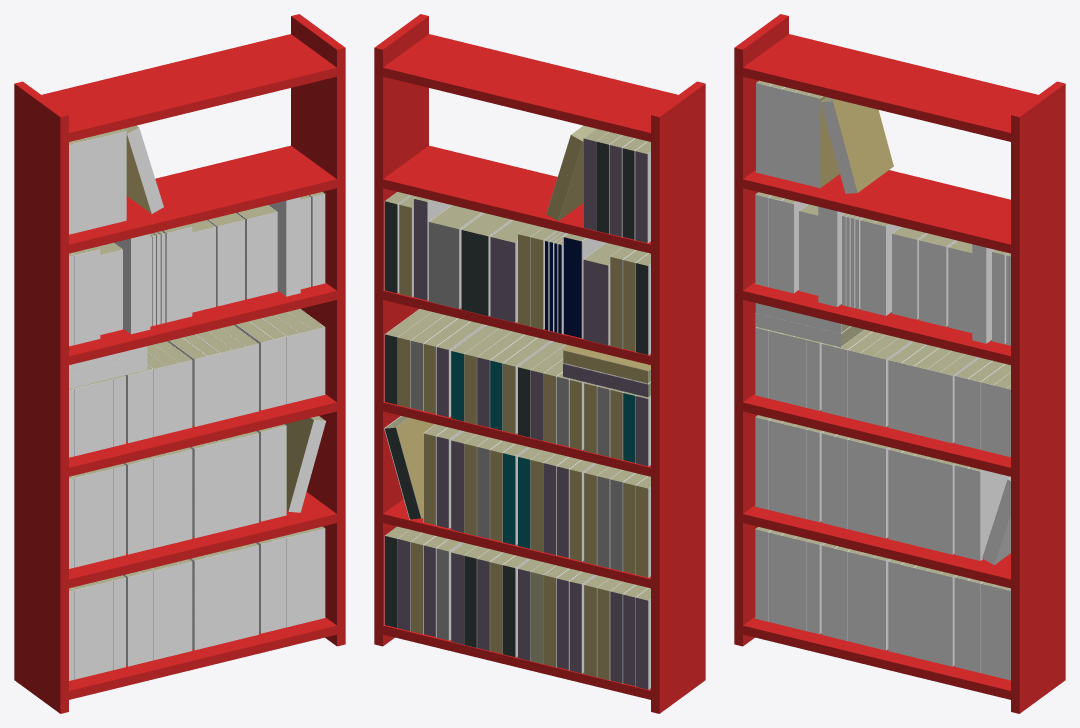
File: kitaplık.fbx
The picture shows the model from 3 angles, left to right: view 1: azimuth 30°, elevation 25°; view 2: azimuth 150°, elevation 25°; view 3: azimuth 330°, elevation 25°; orthographic projection.
Visible parts, largest first — view 1: Shelves1; view 2: Shelves1; view 3: Shelves1.
Part boxes in pixels (left/top/right/bottom): Shelves1: left=14, top=14, right=345, bottom=713; Shelves1: left=374, top=14, right=705, bottom=713; Shelves1: left=734, top=14, right=1065, bottom=713.
Bounding box in the file's own units: 100 × 200 × 28.
